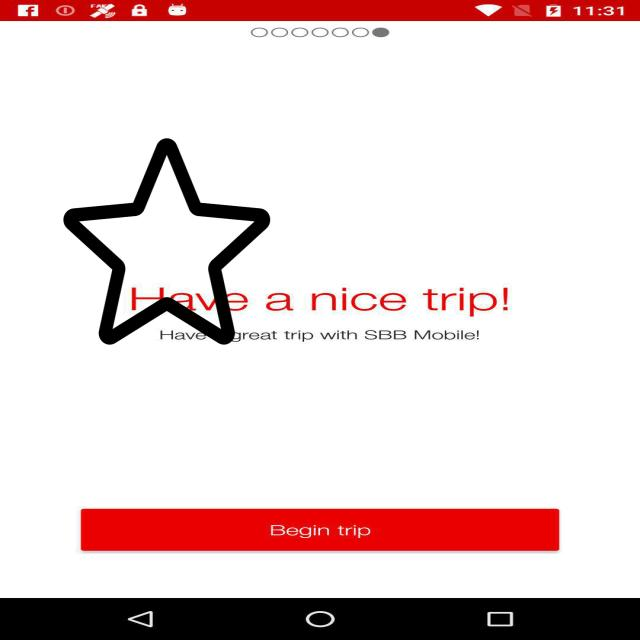forced continuity: (64, 134, 270, 349)
